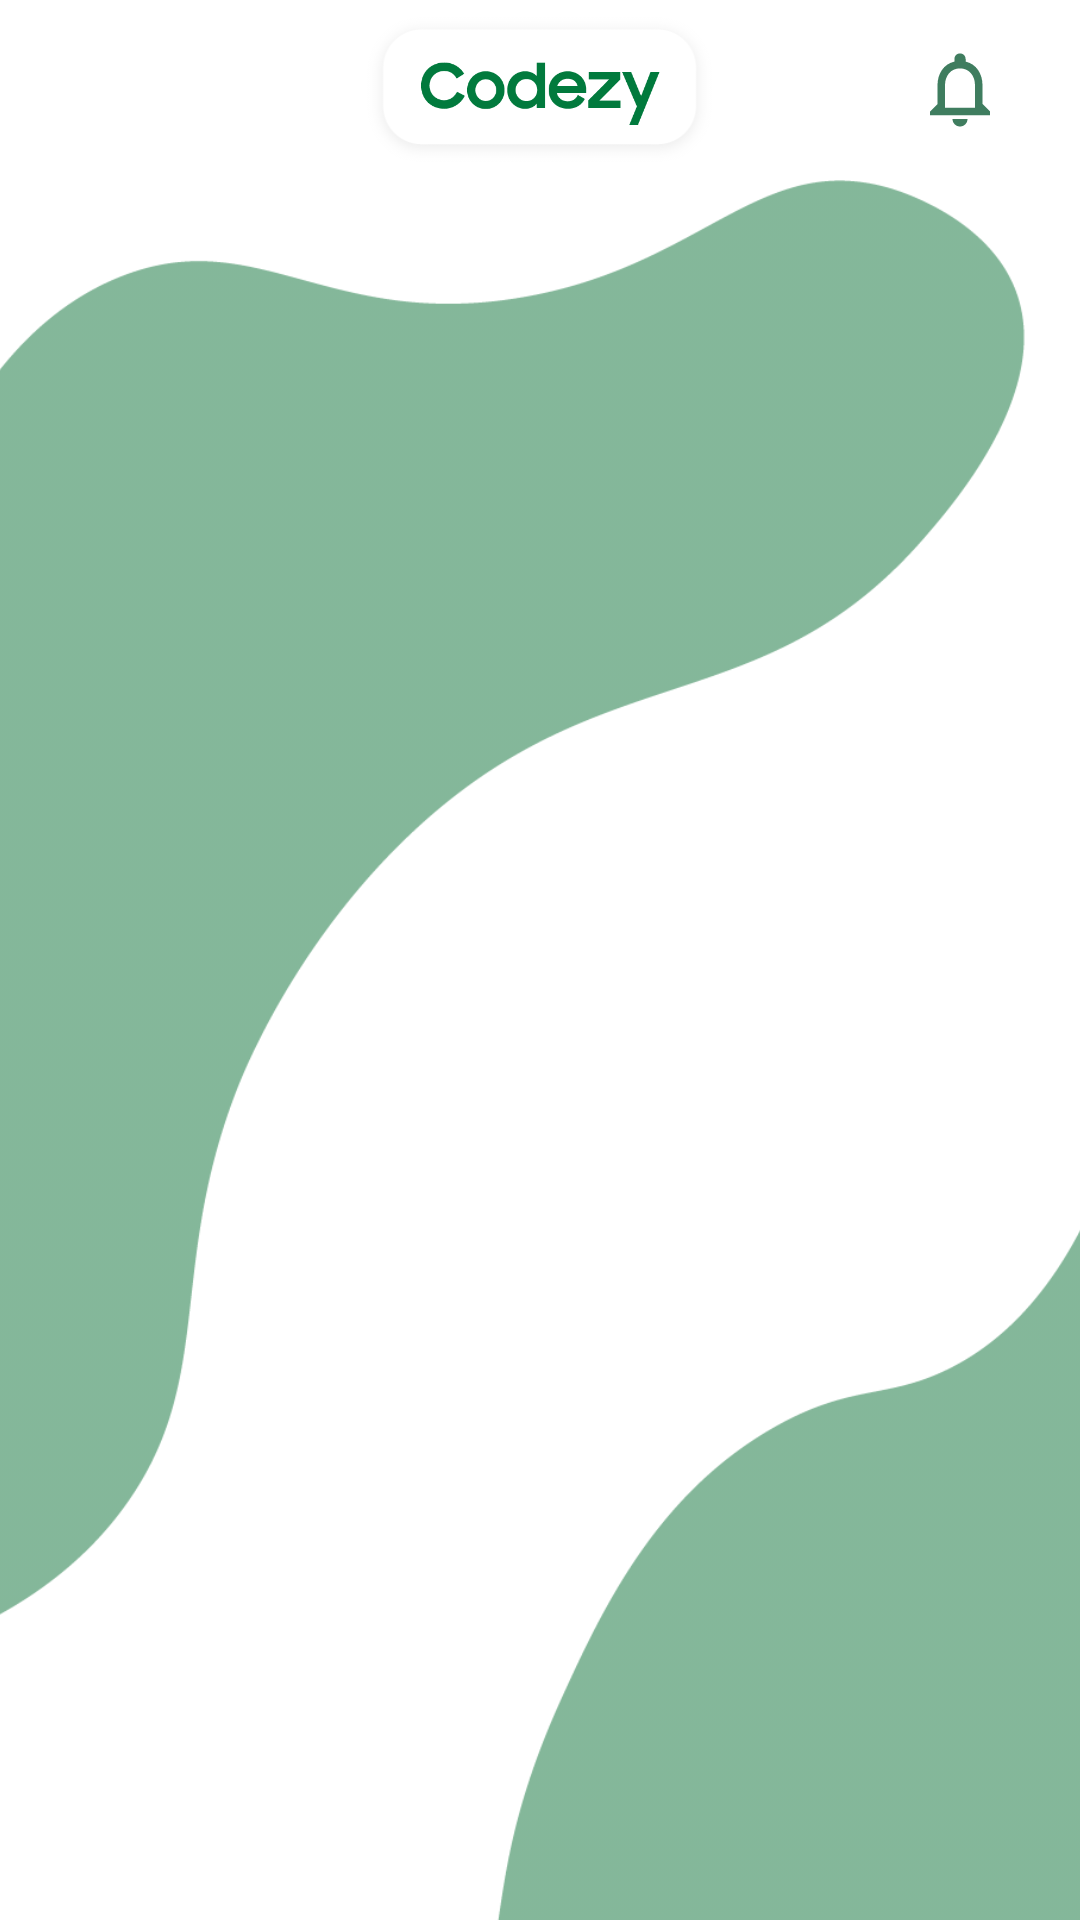

Screen size 1080 x 1920. Icon name, then its center in pixels as (x,y):
codezy notifications: (960,90)
